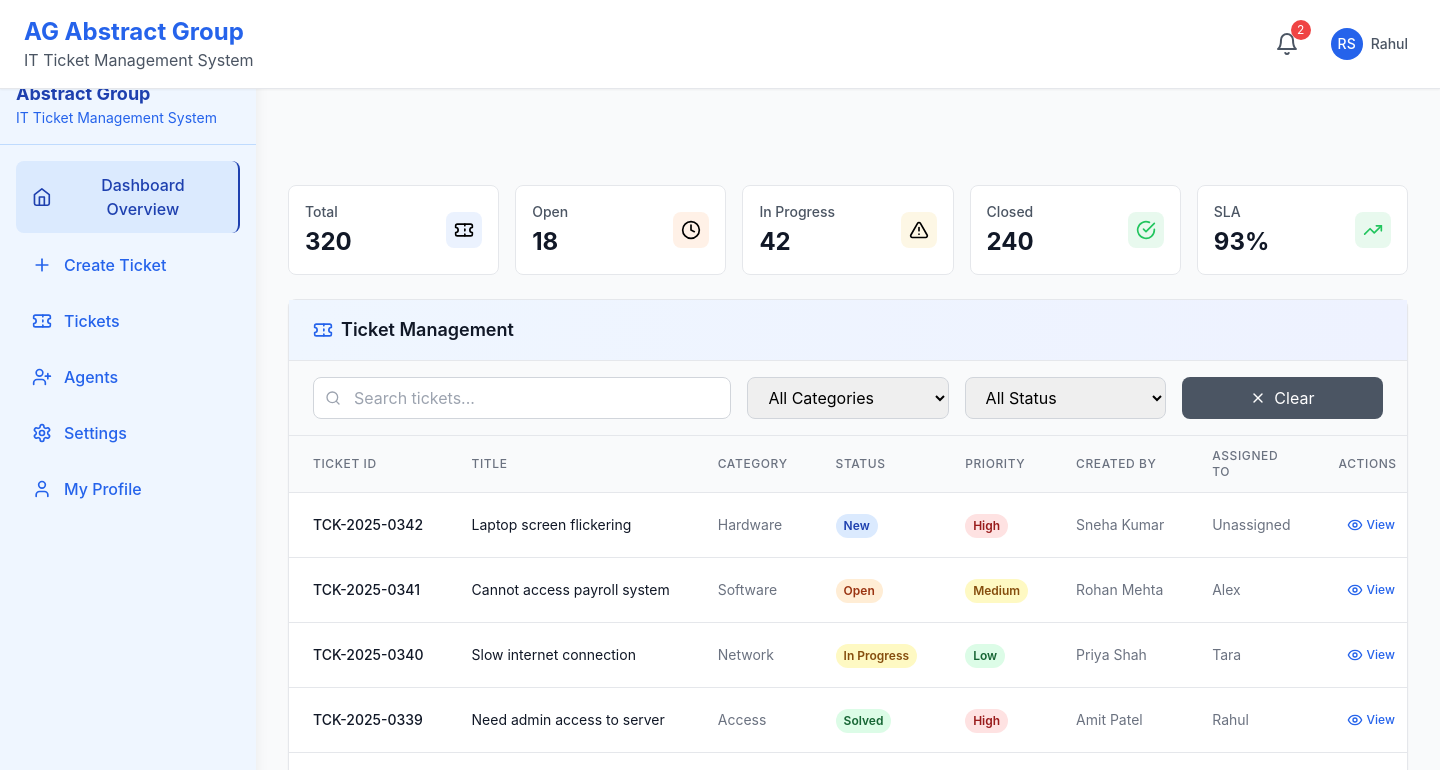
Test case: ITPersonDashboard - Views › renders dashboard and navigates to tickets, agents, settings, profile
Check: the text "IT Ticket Management System" below "AG Abstract Group" is shown, box [24, 50, 254, 70]
Click the button "Tickets": (128,321) [16, 297, 240, 345]
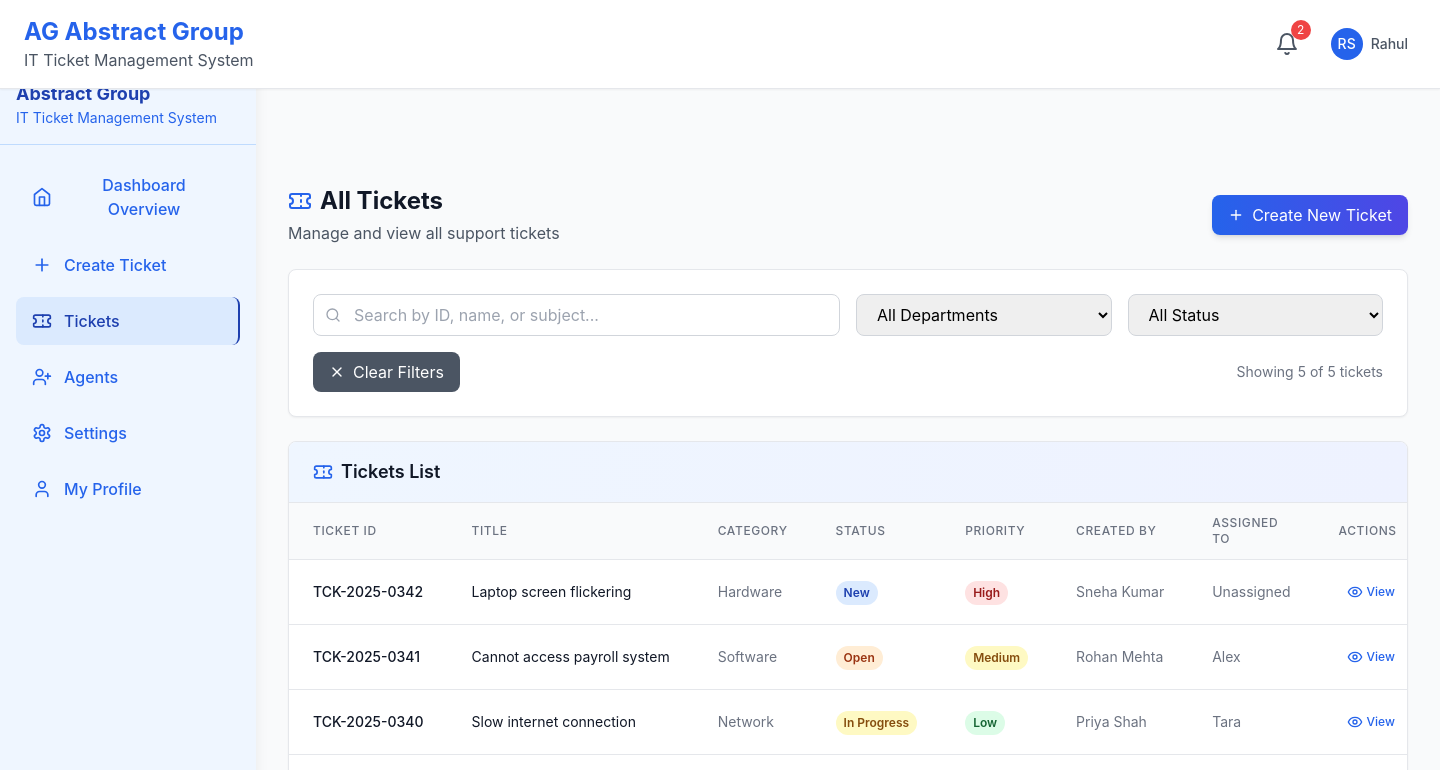
Check: the heading "All Tickets" is shown, box [288, 186, 443, 215]
Click the button "Agents": (128,377) [16, 353, 240, 401]
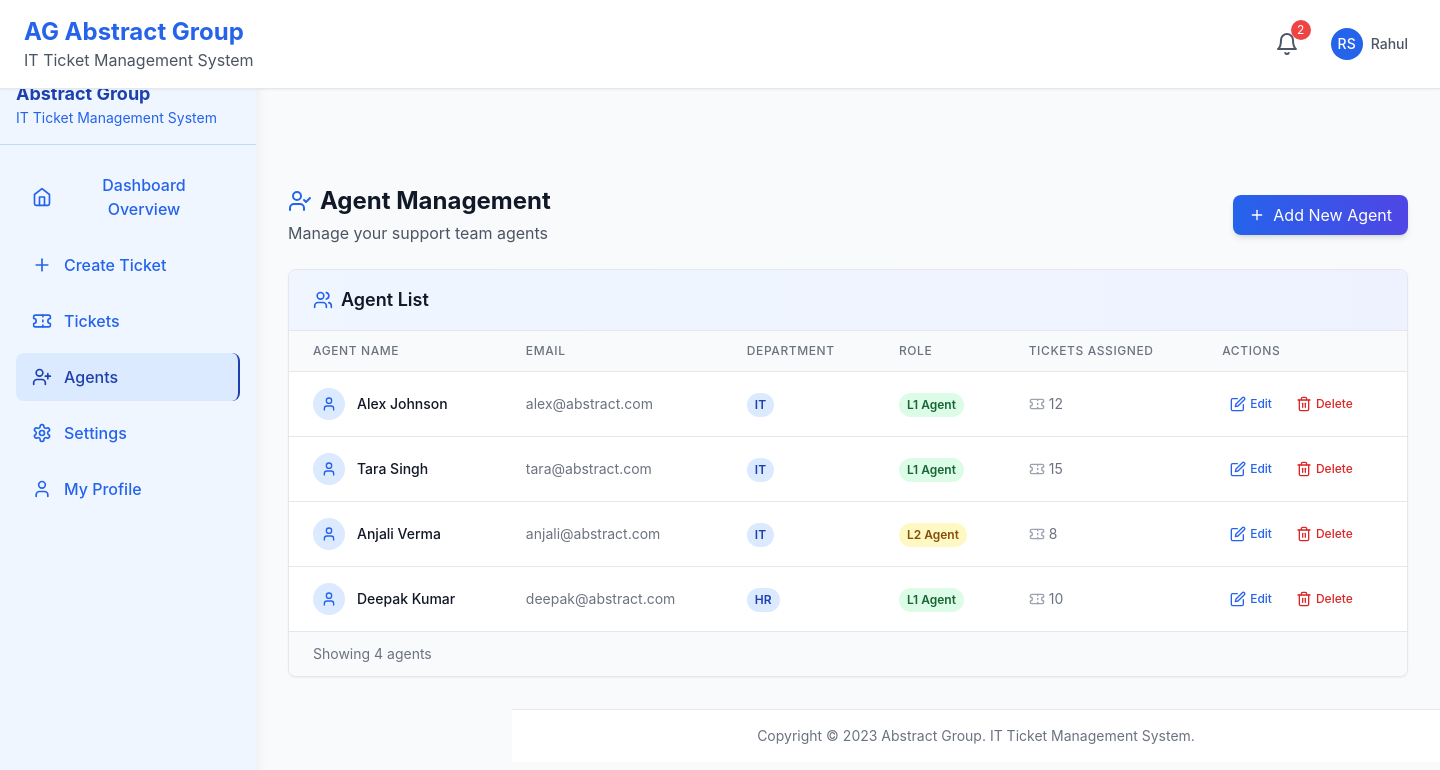
Check: the heading "Agent Management" is shown, box [288, 185, 551, 217]
Click the button "Settings": (128,433) [16, 409, 240, 457]
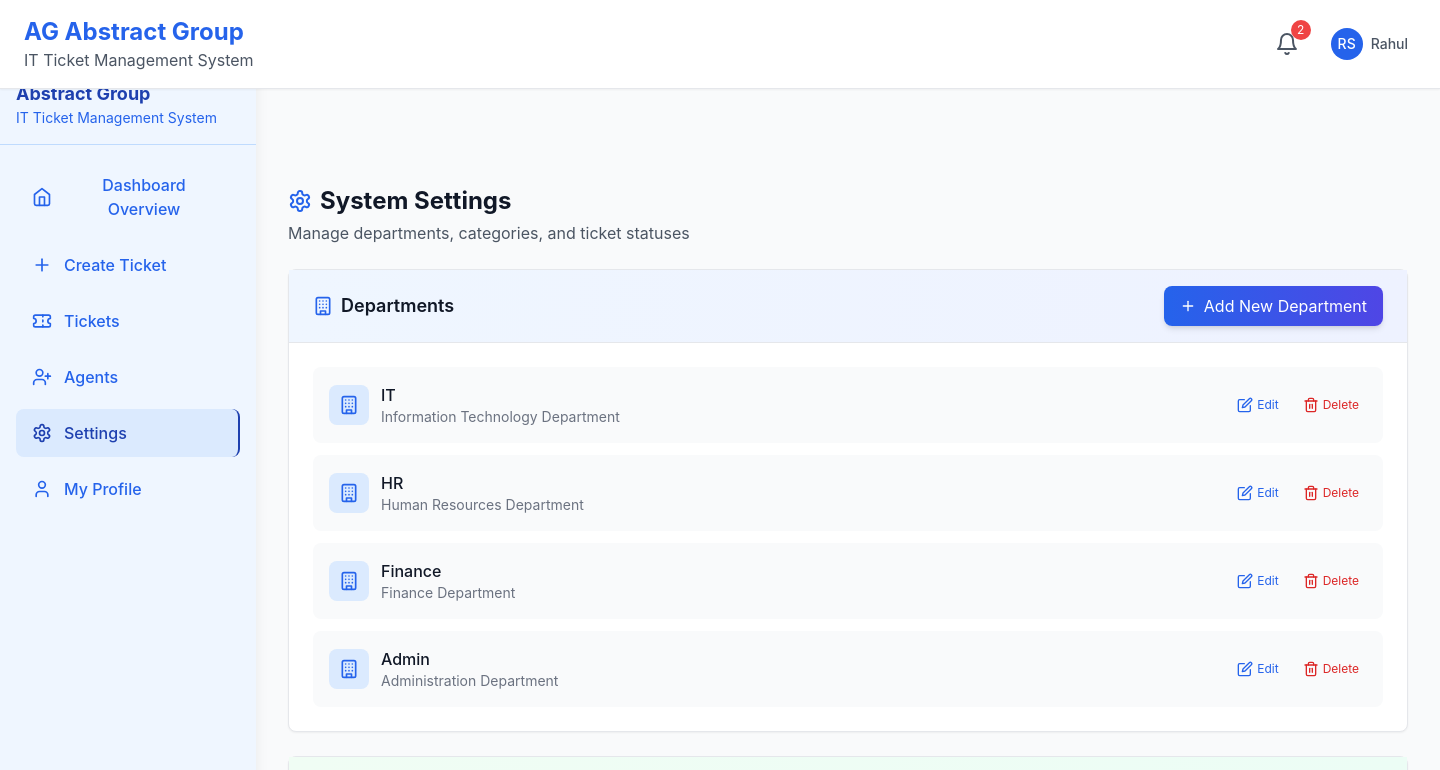
Check: the heading "System Settings" is shown, box [288, 186, 511, 215]
Click the text "Rahul": (1389,44) [1371, 34, 1408, 54]
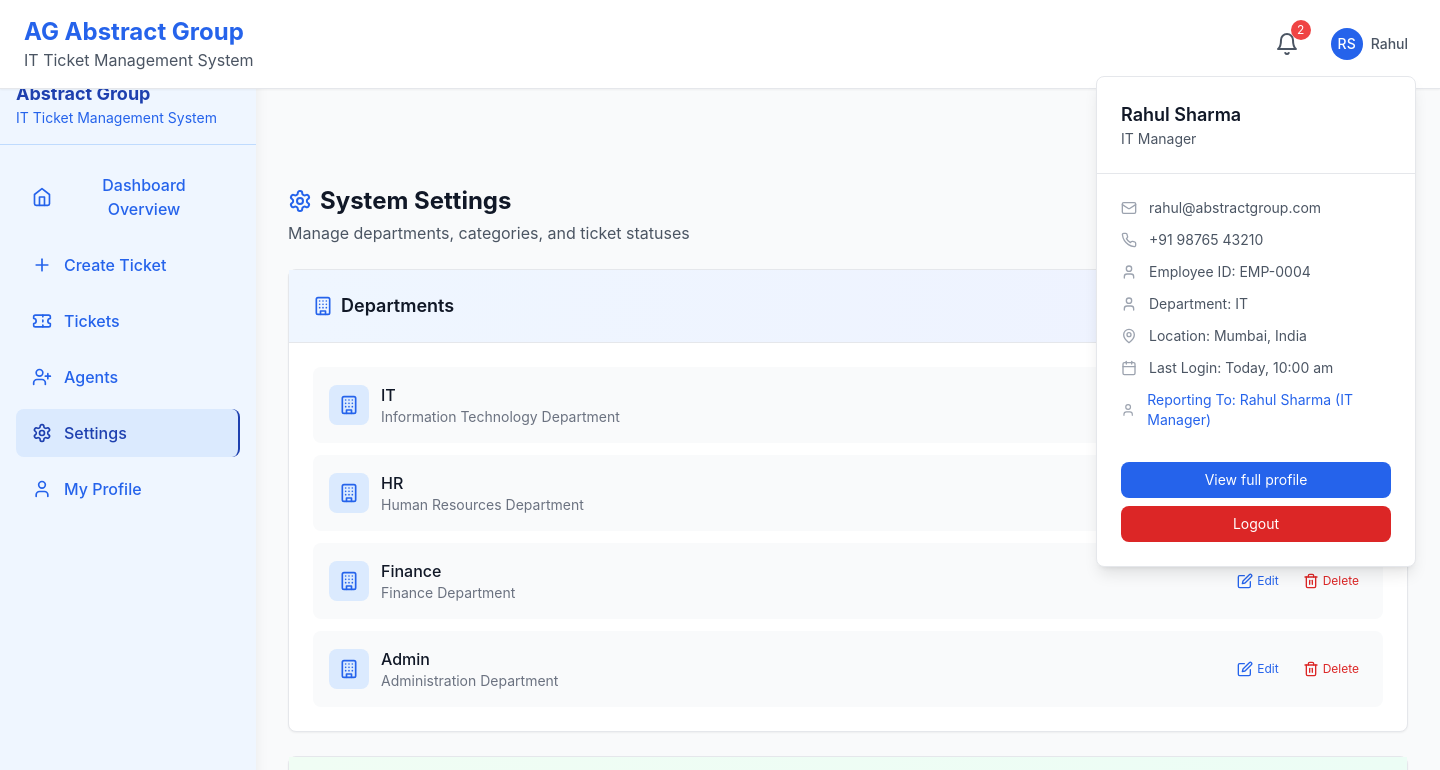
Click the button "View full profile": (1256,480) [1121, 462, 1391, 498]
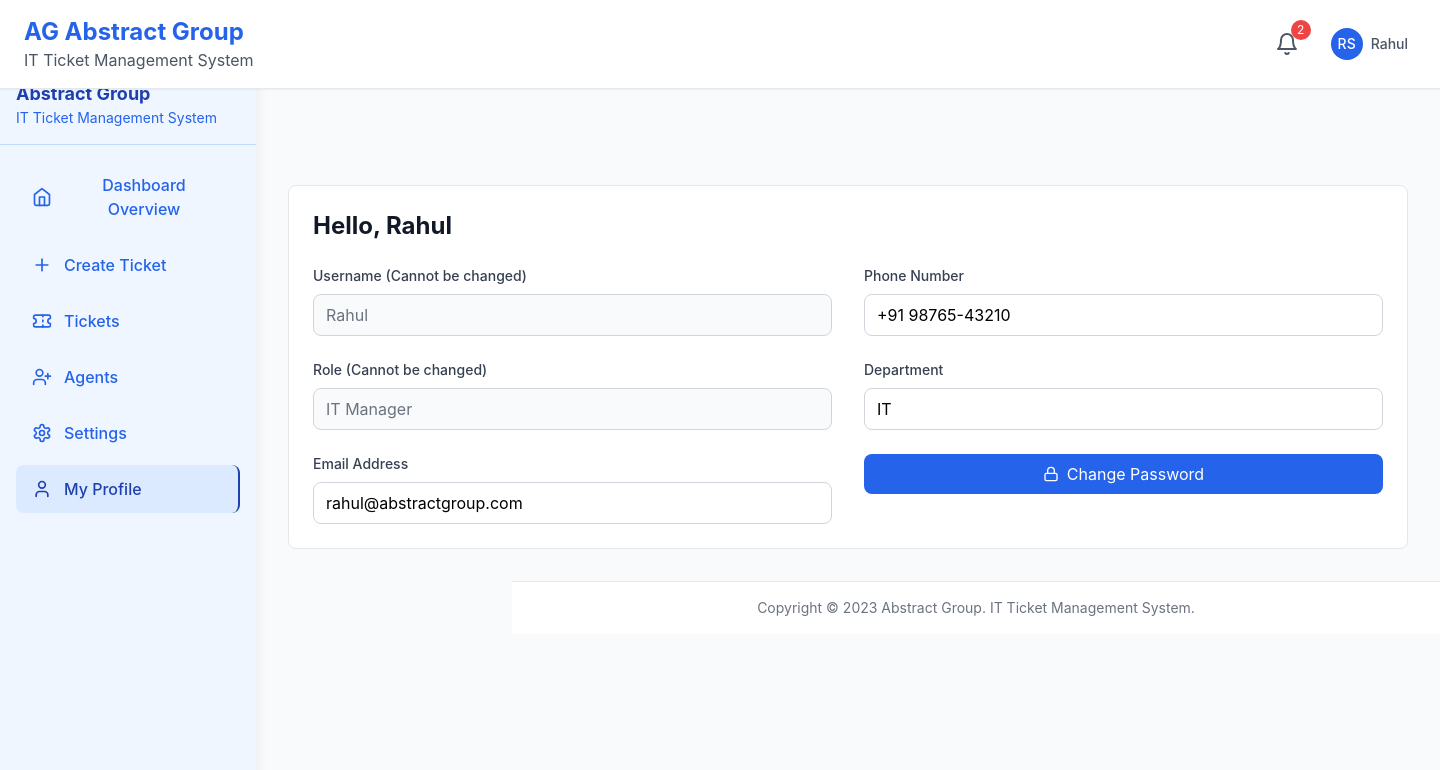
Check: the heading "Hello, Rahul" is shown, box [313, 211, 452, 240]
